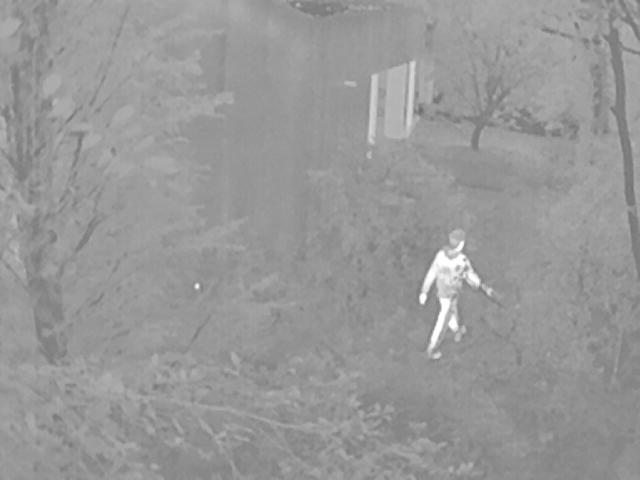person: (418, 228, 495, 359)
